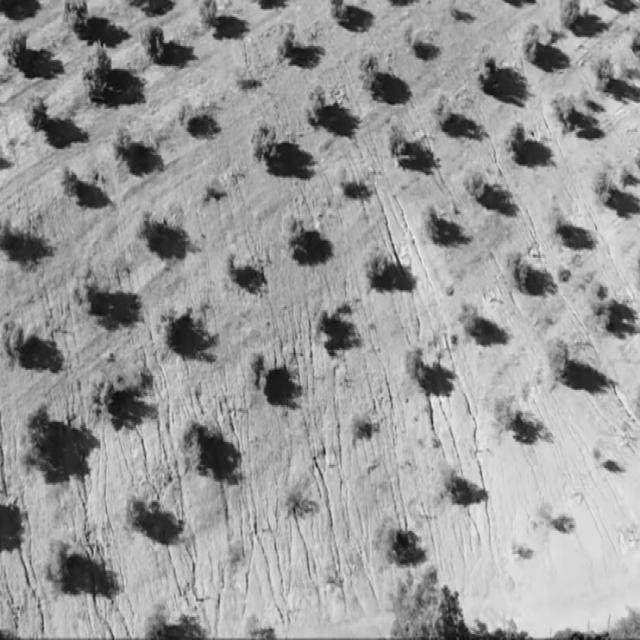trees: (15, 392, 58, 490), (32, 527, 82, 605), (171, 404, 215, 491), (69, 240, 108, 328), (585, 254, 624, 337), (84, 351, 126, 428), (360, 220, 398, 302), (488, 372, 527, 448), (274, 192, 314, 266), (589, 148, 630, 219), (148, 281, 185, 359), (74, 38, 114, 108), (248, 108, 286, 180), (586, 35, 628, 100), (345, 37, 385, 105), (540, 317, 576, 392), (127, 190, 163, 263), (368, 502, 410, 564), (340, 398, 378, 464), (304, 280, 341, 344), (378, 105, 410, 179), (119, 480, 152, 551), (109, 111, 146, 173), (394, 336, 428, 402), (243, 345, 275, 415), (499, 240, 532, 306), (458, 160, 498, 213), (0, 290, 29, 359), (131, 12, 166, 68), (393, 10, 429, 64), (543, 184, 570, 256), (269, 9, 302, 67), (416, 186, 449, 244), (548, 83, 584, 136), (435, 451, 464, 516), (502, 106, 533, 166), (20, 85, 54, 138), (470, 34, 498, 97), (1, 23, 34, 76), (326, 154, 362, 202), (300, 76, 332, 127), (520, 11, 545, 76), (59, 0, 96, 40), (58, 151, 85, 204), (174, 85, 200, 140), (428, 84, 456, 133), (220, 242, 244, 298), (458, 290, 484, 340), (226, 51, 253, 96), (559, 0, 583, 31)
